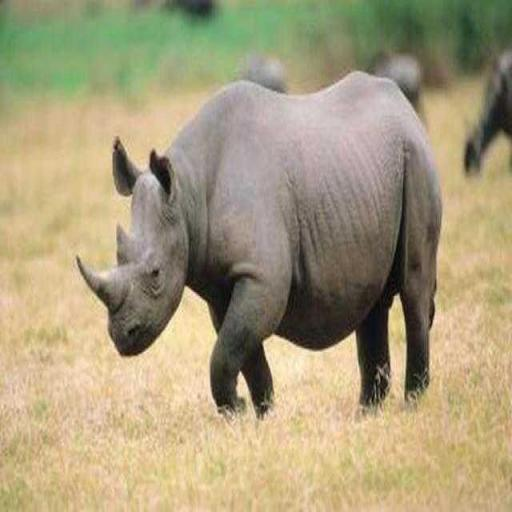Rhino: (75, 67, 443, 424), (462, 46, 512, 176)
